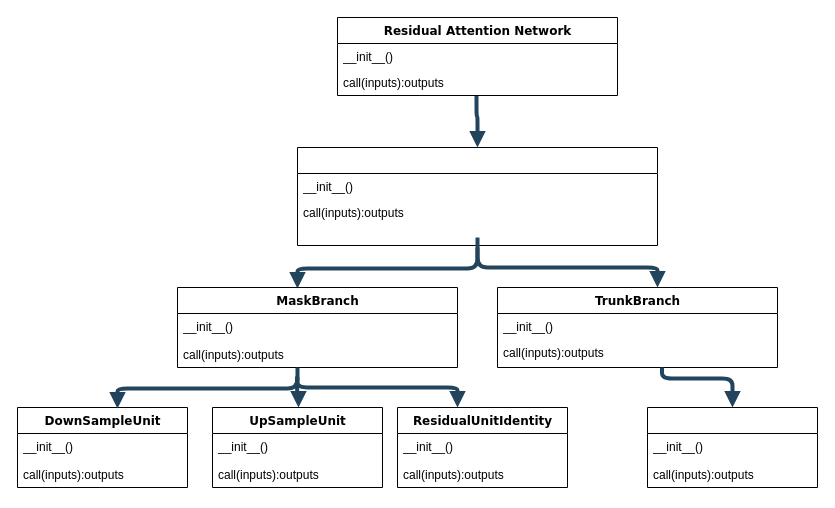
Image size: 835x508. Some labels were removed from this diagram. The shapes that lost their labels are listed below. From the top down, each one's box as (x1, y1, x2, y2) in pixels, then its label:
(296, 146, 658, 246): Attention Module
(646, 406, 818, 488): ResidualUnit
